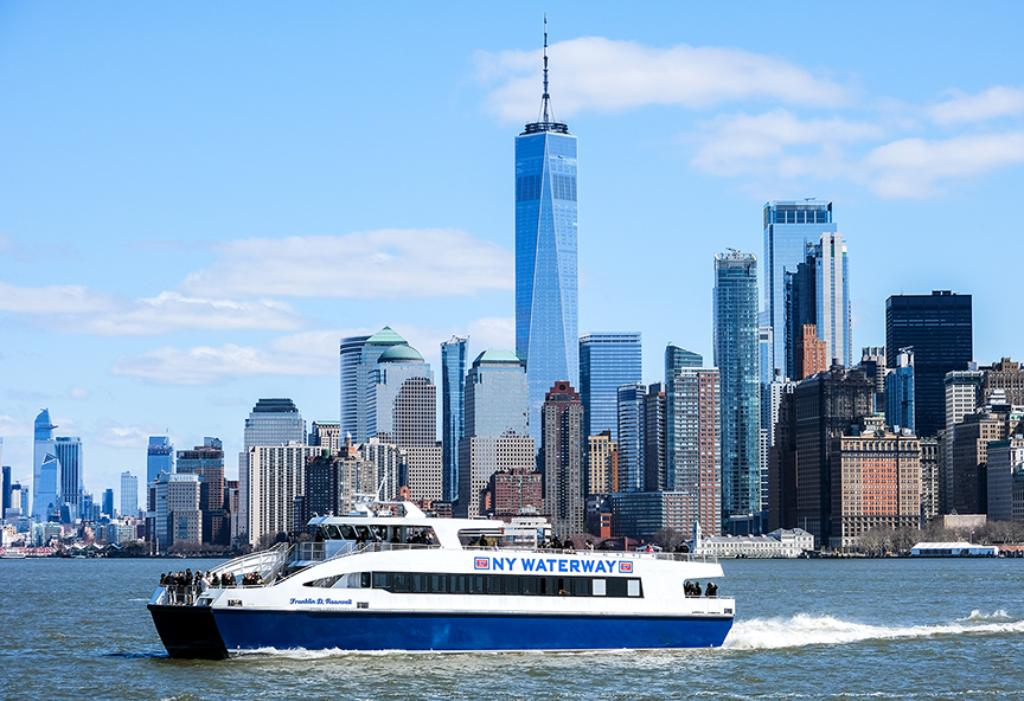PassengerShip: (119, 479, 737, 677)
